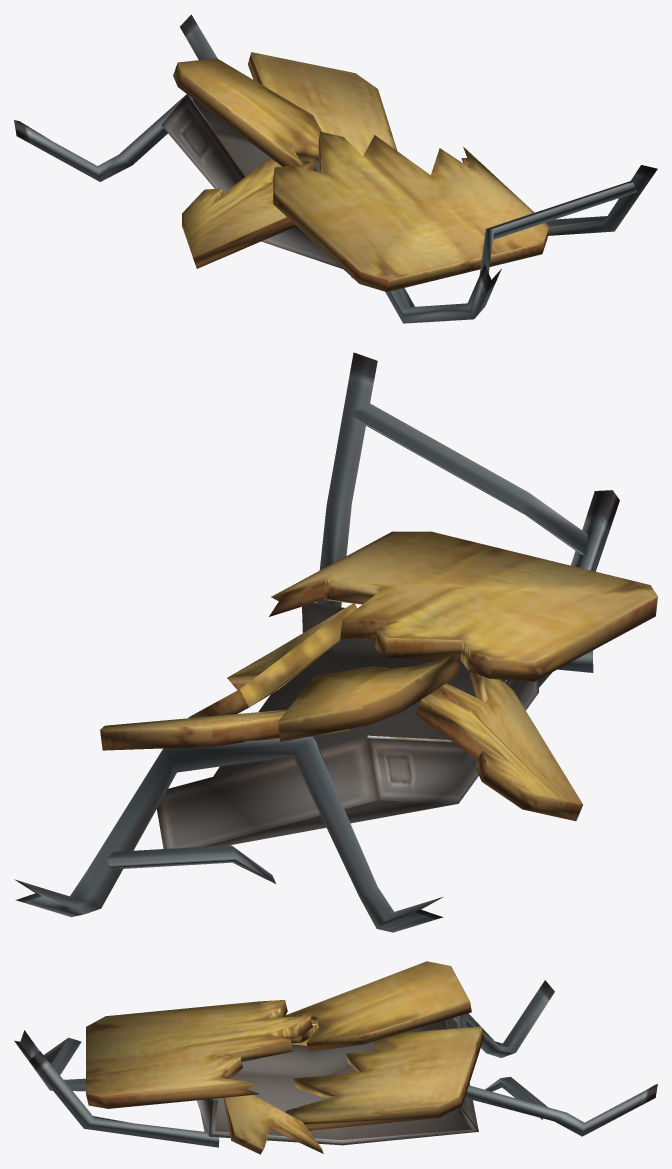
Rendered from a_ESDdeskp02.glb.
3 renders of one model, top to bottom at view 1: azimuth 30°, elevation 25°; view 2: azimuth 150°, elevation 25°; view 3: azimuth 270°, elevation 25°, orthographic. The views are drawn at different scales.
Parts seen in each view (by area): view 1: a_ESDdeskp02; view 2: a_ESDdeskp02; view 3: a_ESDdeskp02.
Boxes of the visible parts, box(x1,y1,x2,y2) form: a_ESDdeskp02: box(14, 14, 657, 323); a_ESDdeskp02: box(14, 352, 657, 932); a_ESDdeskp02: box(14, 961, 657, 1154).
Bounding box in the file's own units: 1.07 × 0.437 × 1.93.
Materials: 1 (1 with a texture image).
